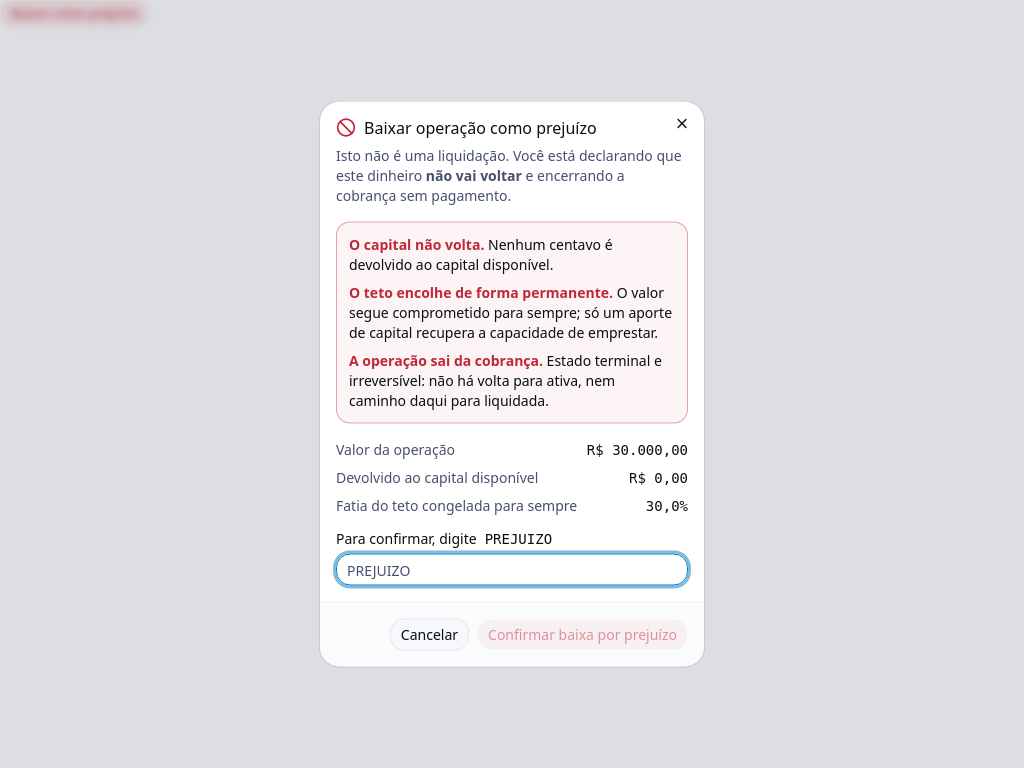
Scenario: BaixarPrejuizoDialog › mantém a confirmação bloqueada até a palavra ser digitada
expect the button "Confirmar baixa por prejuízo" is disabled: met, box [477,618,688,650]
Type "prejuizo" into the field labelled "Para confirmar, digite PREJUIZO". click: coordinates (512, 570)
box: [336,554,688,586]
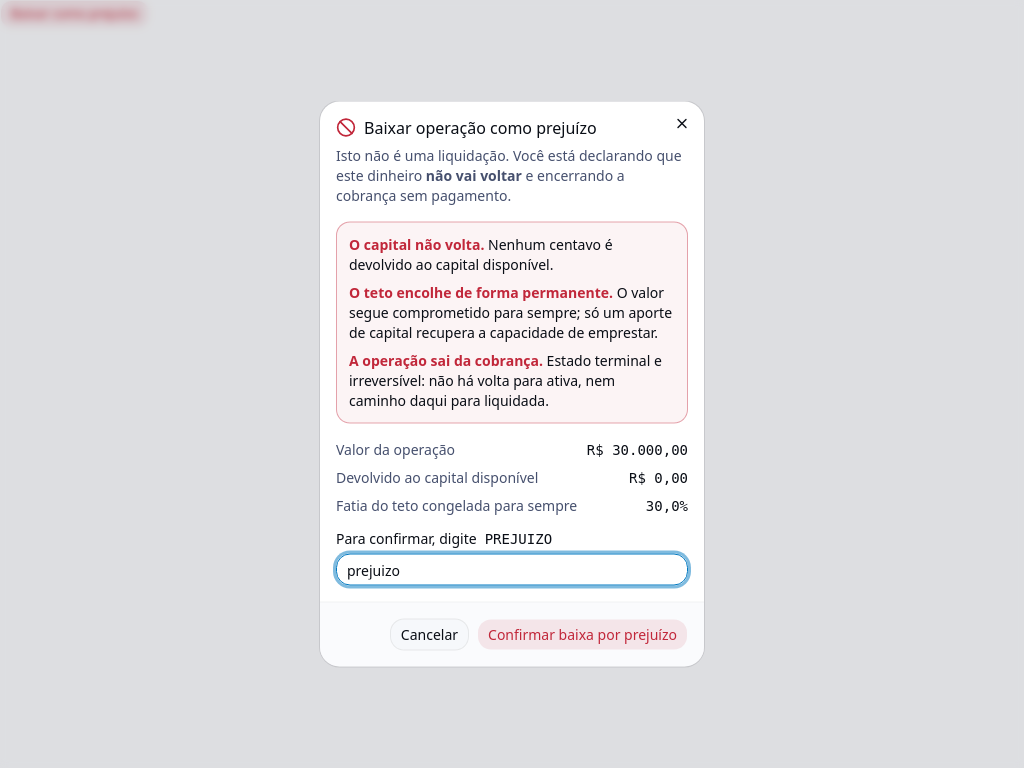
expect the button "Confirmar baixa por prejuízo" is enabled: met, box [477,618,688,650]
